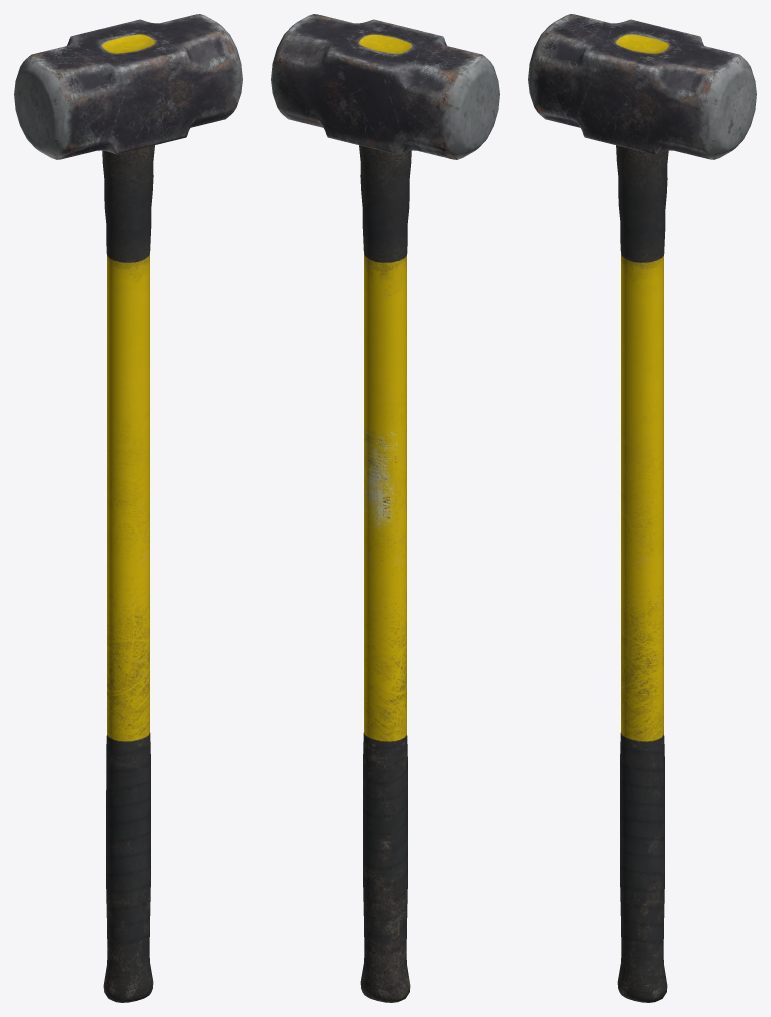
The model's file is sledgehammer_01.glb.
3 renders of one model, left to right at view 1: azimuth 30°, elevation 25°; view 2: azimuth 150°, elevation 25°; view 3: azimuth 330°, elevation 25°, orthographic.
Visible parts, largest first — view 1: sledgehammer_01; view 2: sledgehammer_01; view 3: sledgehammer_01.
Boxes of the visible parts, x1,y1,x2,y2 form: sledgehammer_01: (14, 14, 242, 1002); sledgehammer_01: (271, 14, 499, 1002); sledgehammer_01: (528, 14, 756, 1002).
Size of the model in its own units: 0.2084 by 1.01 by 0.0905.
Materials: 1 (1 with a texture image).
